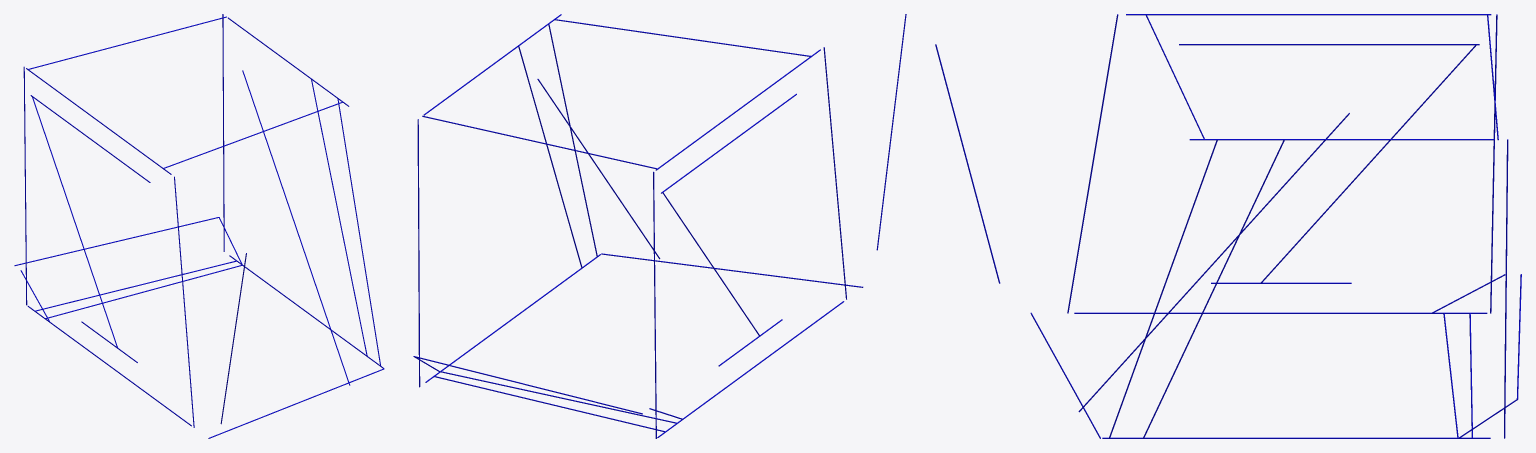
The model's file is corrected_3d_strokes.glb.
The picture shows the model from 3 angles, left to right: view 1: azimuth 30°, elevation 25°; view 2: azimuth 150°, elevation 25°; view 3: azimuth 270°, elevation 25°; orthographic projection. The views are drawn at different scales.
Visible parts, largest first — view 1: world; view 2: world; view 3: world.
Boxes of the visible parts, box(x1,y1,x2,y2) form: world: box(14, 14, 384, 438); world: box(413, 14, 906, 438); world: box(935, 14, 1521, 438).
Bounding box in the file's own units: 8.48 × 9.44 × 16.73.
